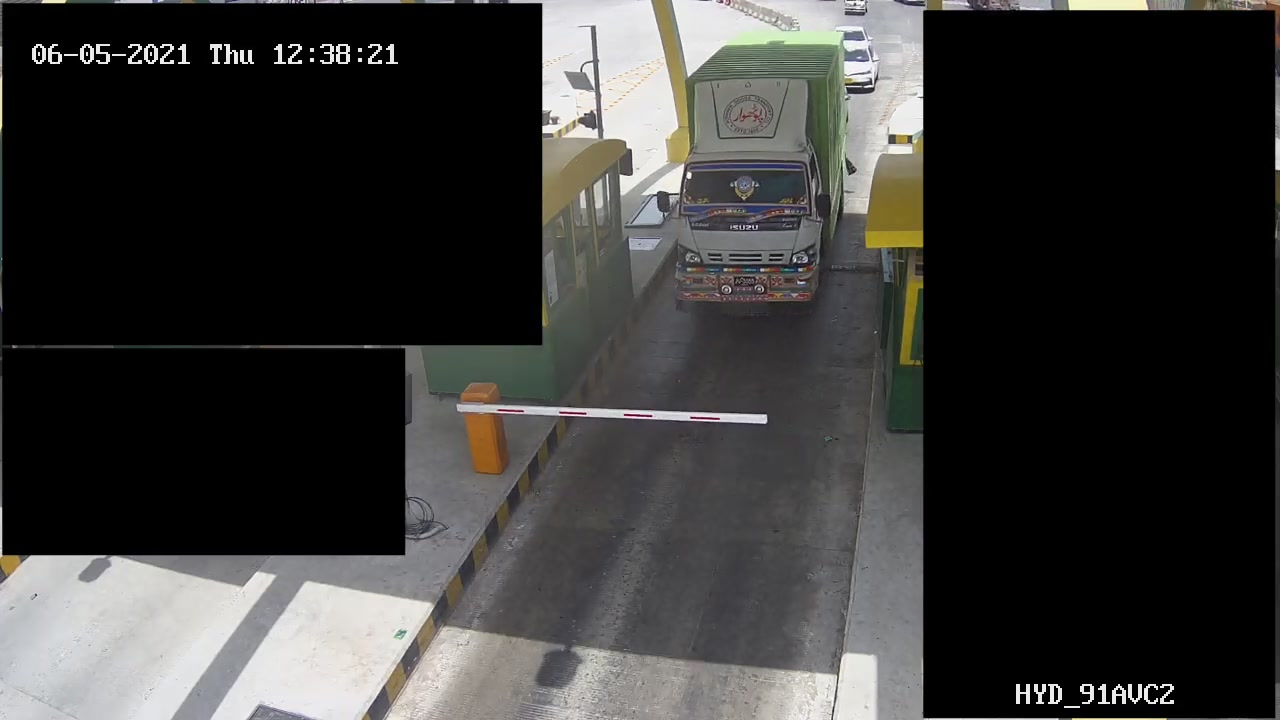F3: (665, 28, 854, 328)
